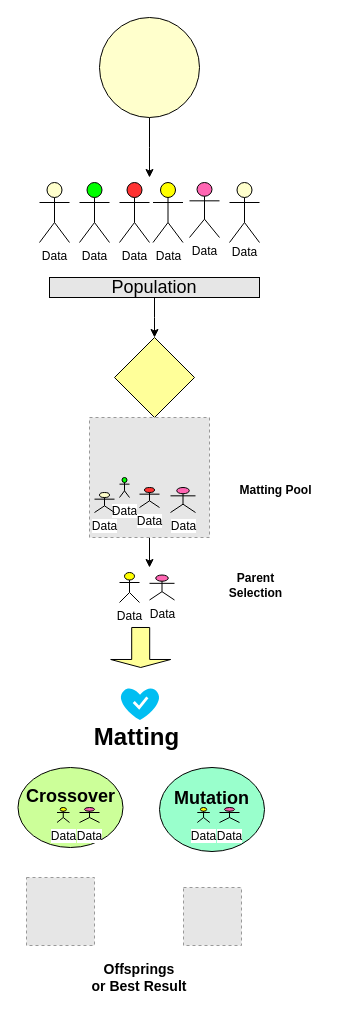
Some shapes in this 339 by 1012 pixel diagram are drawn without their labels. Grey dashed boxes stand in for pictures. The centre of each missing label's shape, as x and y in pixels:
"Fitness function" belongs at [154,377].
"Genetic Algorithm" belongs at [149,67].
